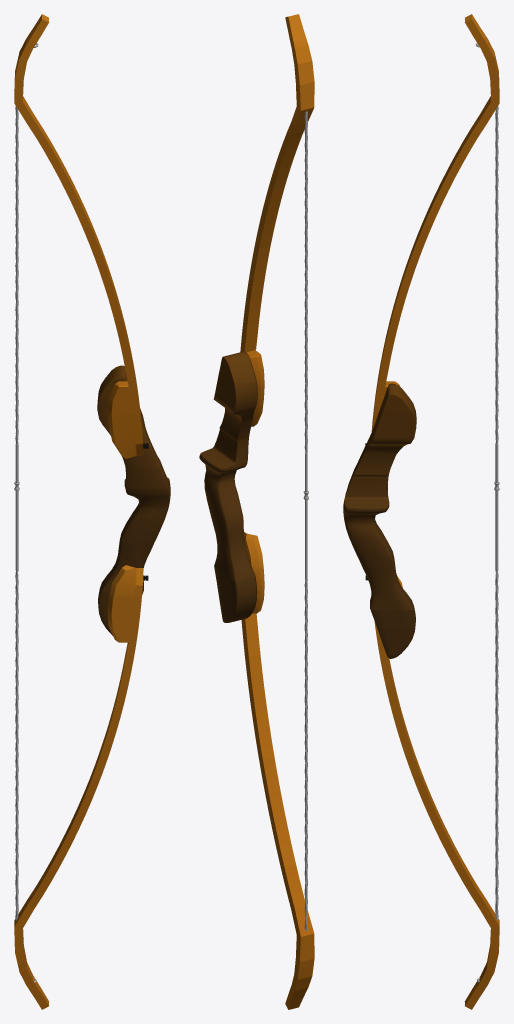
Rendered from SM_bow.fbx.
3 renders of one model, left to right at view 1: azimuth 90°, elevation 25°; view 2: azimuth 210°, elevation 25°; view 3: azimuth 270°, elevation 25°, orthographic.
Visible parts, largest first — view 1: polySurface2, polySurface8, StringGeom; view 2: polySurface2, polySurface8, StringGeom; view 3: polySurface8, polySurface2, StringGeom.
Boxes of the visible parts, x1=… form: polySurface2: x1=14, y1=14, x2=148, y2=1009; polySurface8: x1=97, y1=365, x2=170, y2=635; StringGeom: x1=14, y1=43, x2=38, y2=982; polySurface2: x1=240, y1=14, x2=314, y2=1009; polySurface8: x1=199, y1=351, x2=257, y2=622; StringGeom: x1=303, y1=111, x2=308, y2=931; polySurface8: x1=343, y1=383, x2=416, y2=658; polySurface2: x1=365, y1=14, x2=499, y2=1009; StringGeom: x1=475, y1=43, x2=499, y2=982.
Bounding box in the file's own units: 5.77 × 135 × 19.32.
